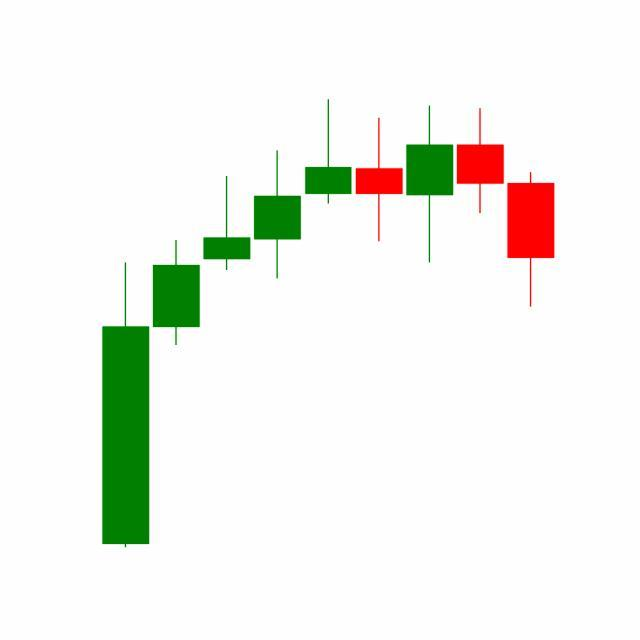Hikkake Pattern: (302, 99, 555, 311)
